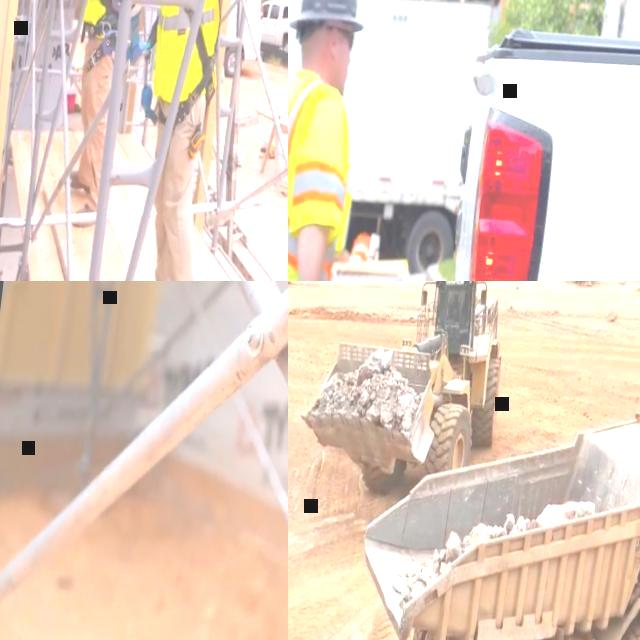helmet: (288, 0, 373, 37)
machinery: (326, 371, 640, 640), (289, 281, 516, 523)
no_mask: (318, 49, 351, 98)
person: (53, 0, 264, 281), (288, 0, 379, 281), (44, 0, 140, 226)
safety_cone: (349, 233, 370, 263)
vehicle: (327, 0, 640, 281), (202, 0, 268, 81), (256, 0, 288, 60)
vest: (288, 66, 365, 281), (148, 0, 236, 106), (79, 0, 131, 36)
